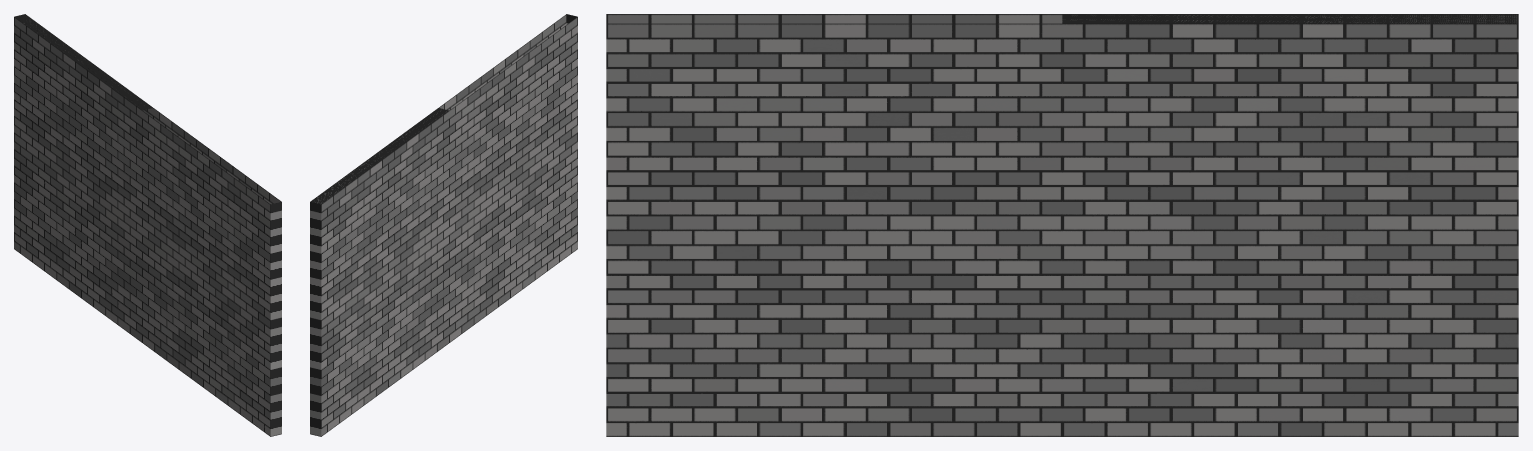
Rendered from Muro2.fbx.
3 renders of one model, left to right at view 1: azimuth 30°, elevation 25°; view 2: azimuth 150°, elevation 25°; view 3: azimuth 270°, elevation 25°, orthographic. The views are drawn at different scales.
Parts seen in each view (by area): view 1: Plane.002; view 2: Plane.002; view 3: Plane.002.
Boxes of the visible parts, box(x1,y1,x2,y2) form: Plane.002: box(14, 14, 281, 436); Plane.002: box(310, 14, 577, 436); Plane.002: box(606, 14, 1518, 436).
Size of the model in its own units: 25.08 by 500 by 1000.
